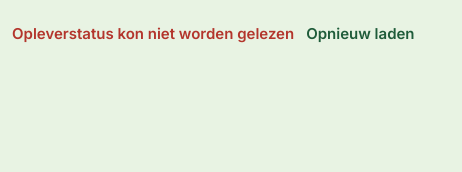
OpleverStatus: leesfout ook bij een eerder geladen run › actieve run, daarna mislukte refetch: leesfout met opnieuw laden in plaats van de vorige status
Later steps or results of the test are not shown.
Check: the text "Opleverstatus kon niet worden gelezen" is shown, box [12, 23, 294, 45]
Check: the text "Dossier ingediend" is not shown
Click the button "Opnieuw laden" at (360, 34), box [306, 12, 415, 56]
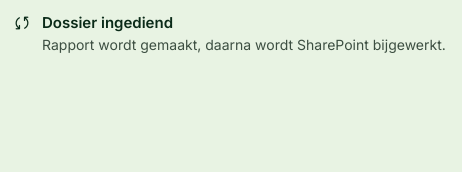
Check: the text "Opleverstatus kon niet worden gelezen" is gone
Check: the text "Dossier ingediend" is shown, box [42, 13, 173, 32]
